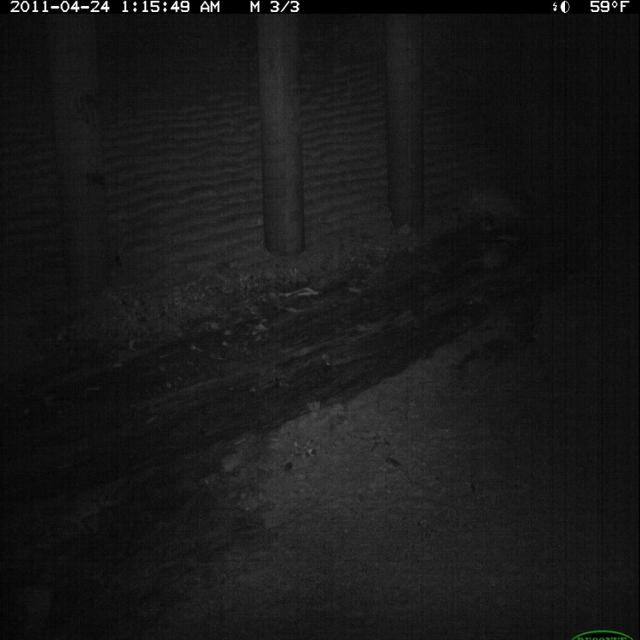opossum: (452, 233, 530, 285)
